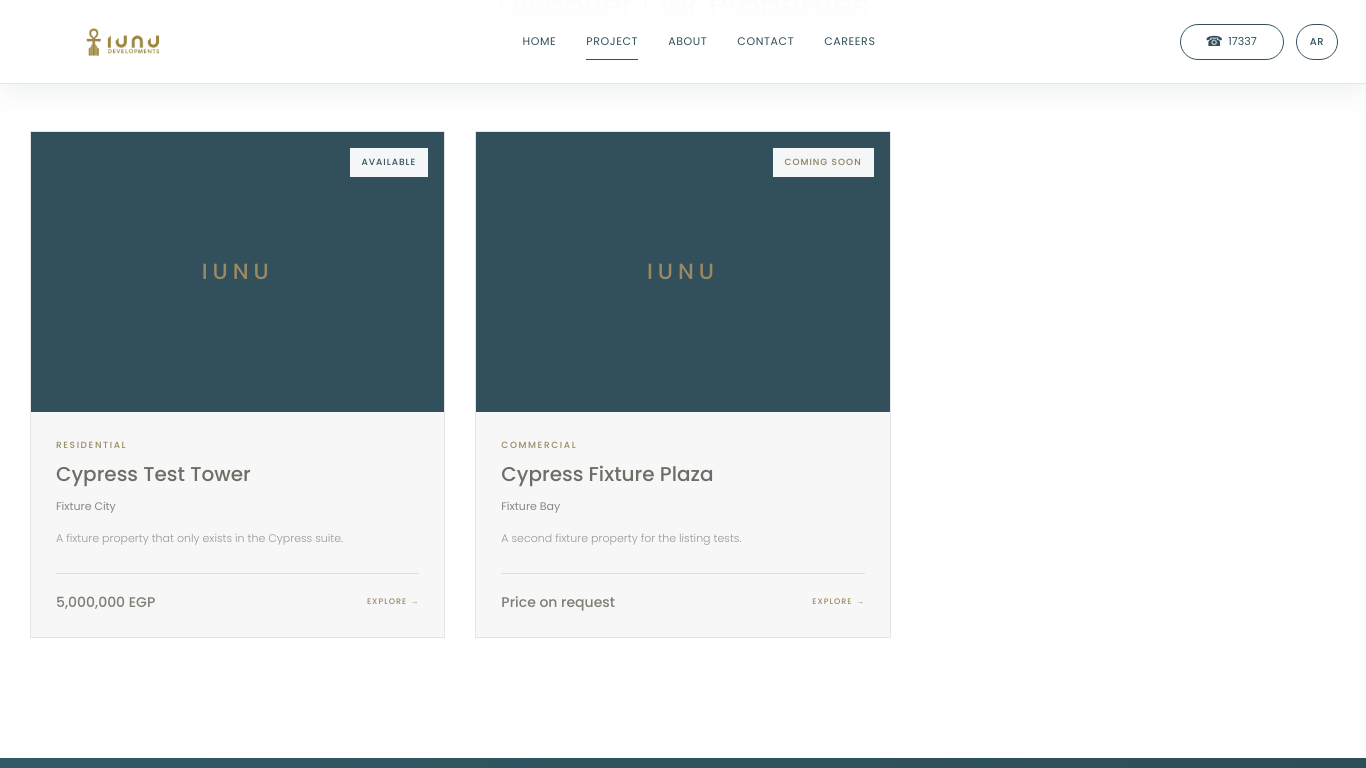
Test: Public site › clicking a property opens its details page
(page scrolled)
Click the link "Cypress Test Tower" at (238, 385), box 30,131 -> 445,638
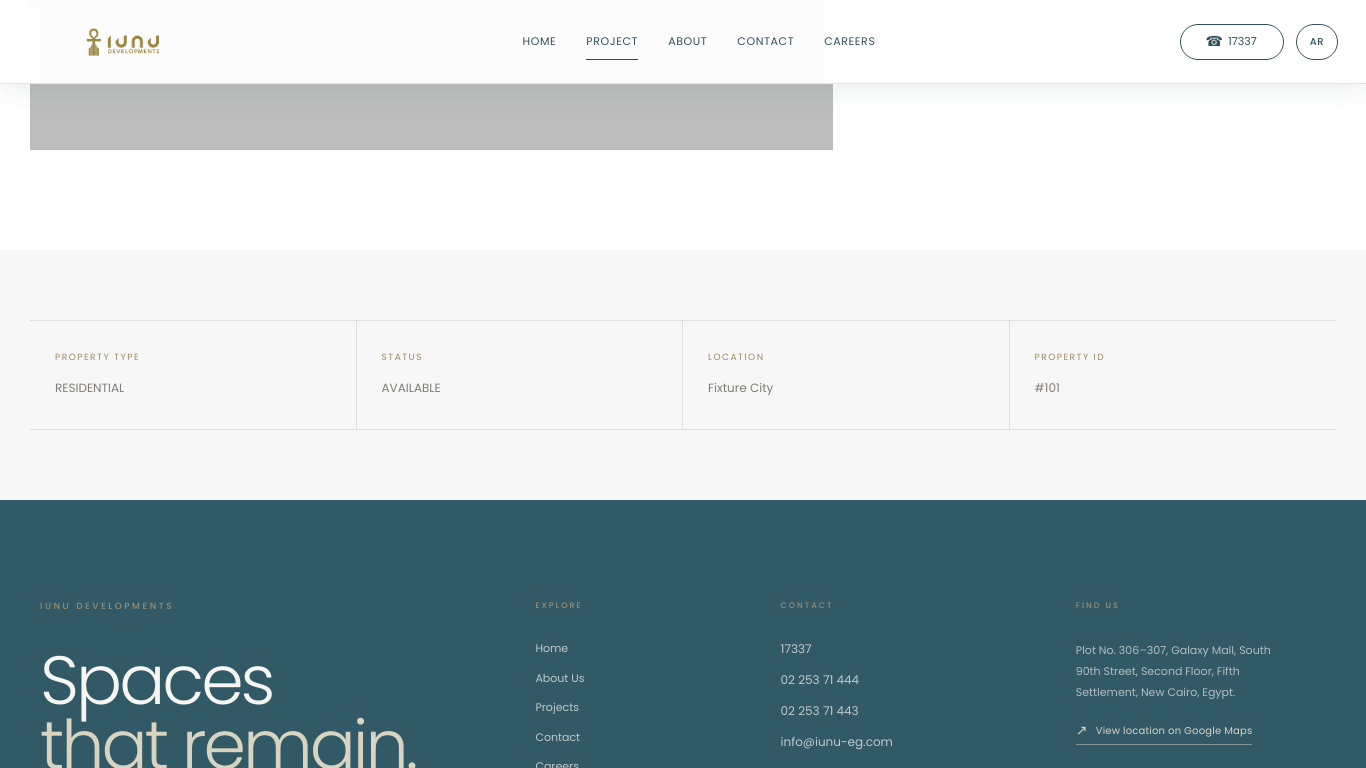
Now the text "#101" is shown, box 1034,379 -> 1060,396
